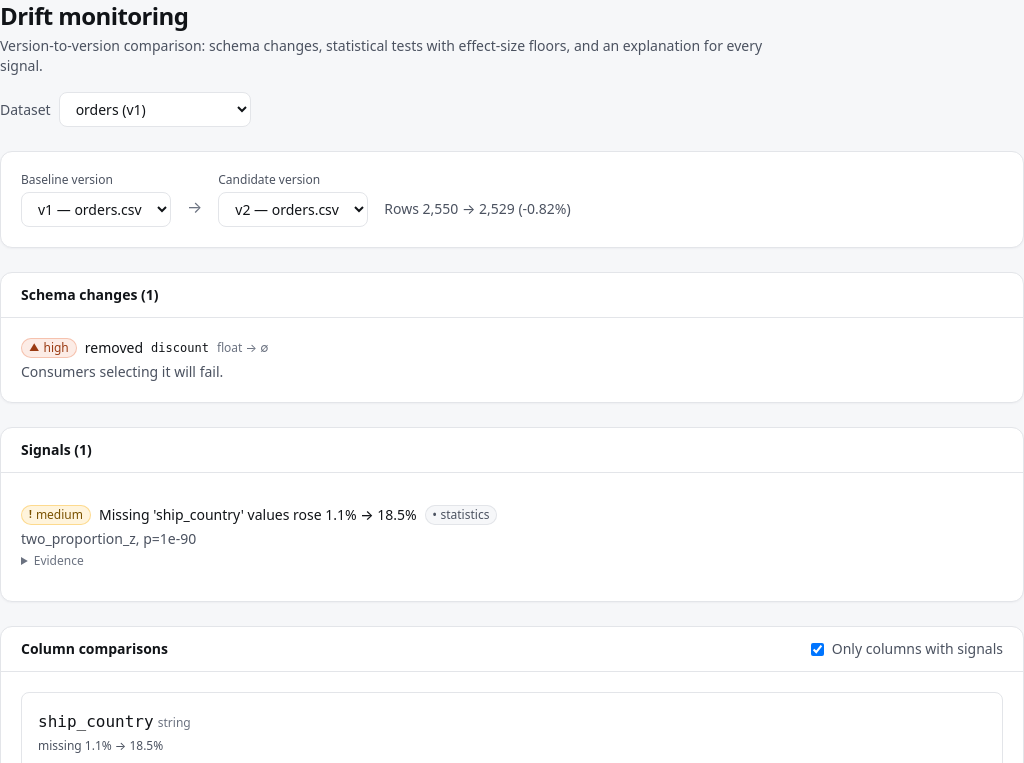
Test case: DriftPage › explains schema changes and signals with evidence
Expected: the text "Missing 'ship_country' values rose 1.1% → 18.5%" is shown, [99, 505, 417, 525]
Expected: the text "Consumers selecting it will fail." is shown, [21, 362, 223, 381]
Click the checkbox labelled "Only columns with signals".
click(817, 649)  # box [811, 642, 824, 656]
(page scrolled)
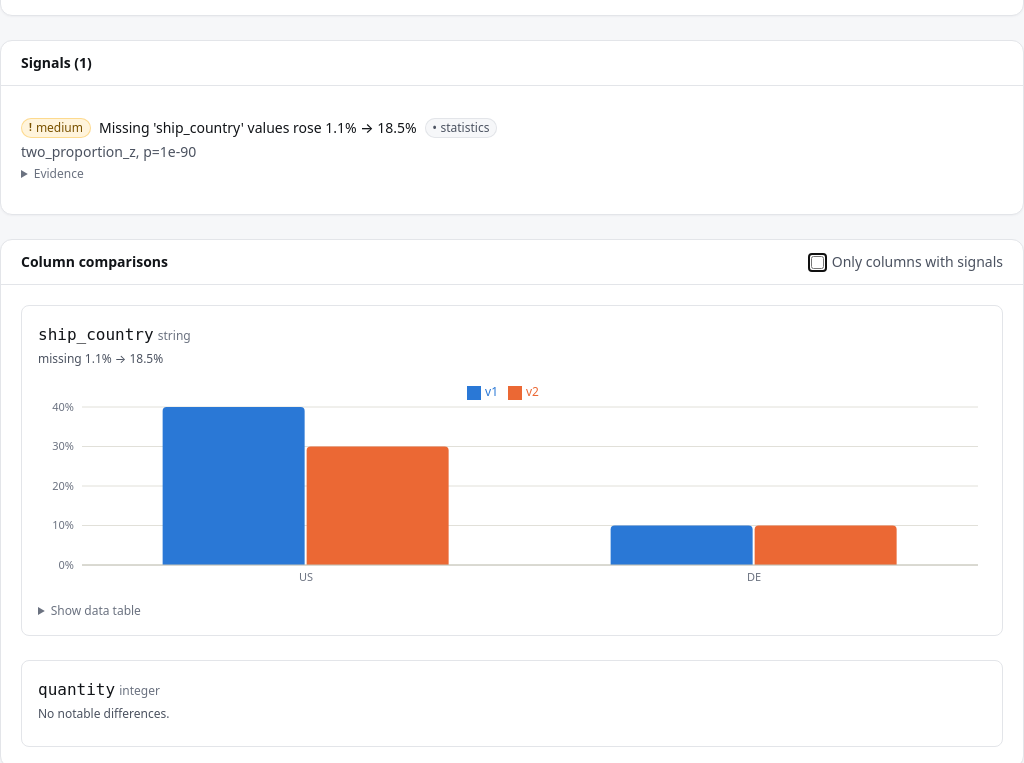
Expected: the text "quantity" is shown, [38, 680, 115, 699]
